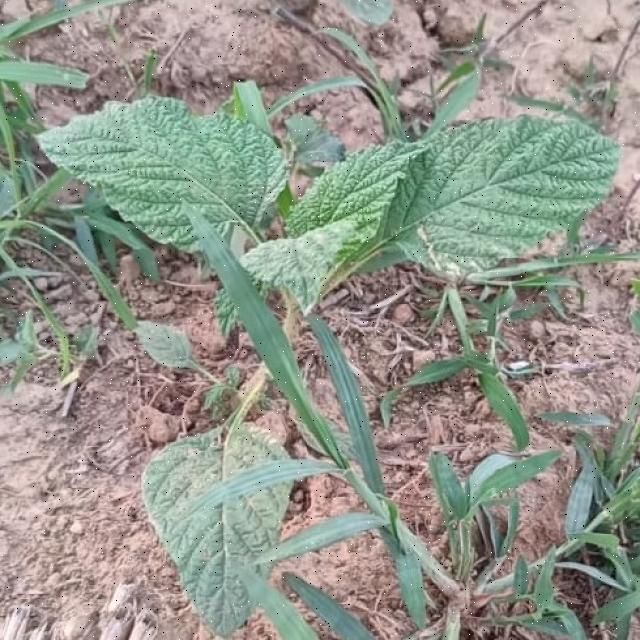weed: (39, 96, 620, 316), (144, 422, 291, 637), (103, 287, 191, 363)
